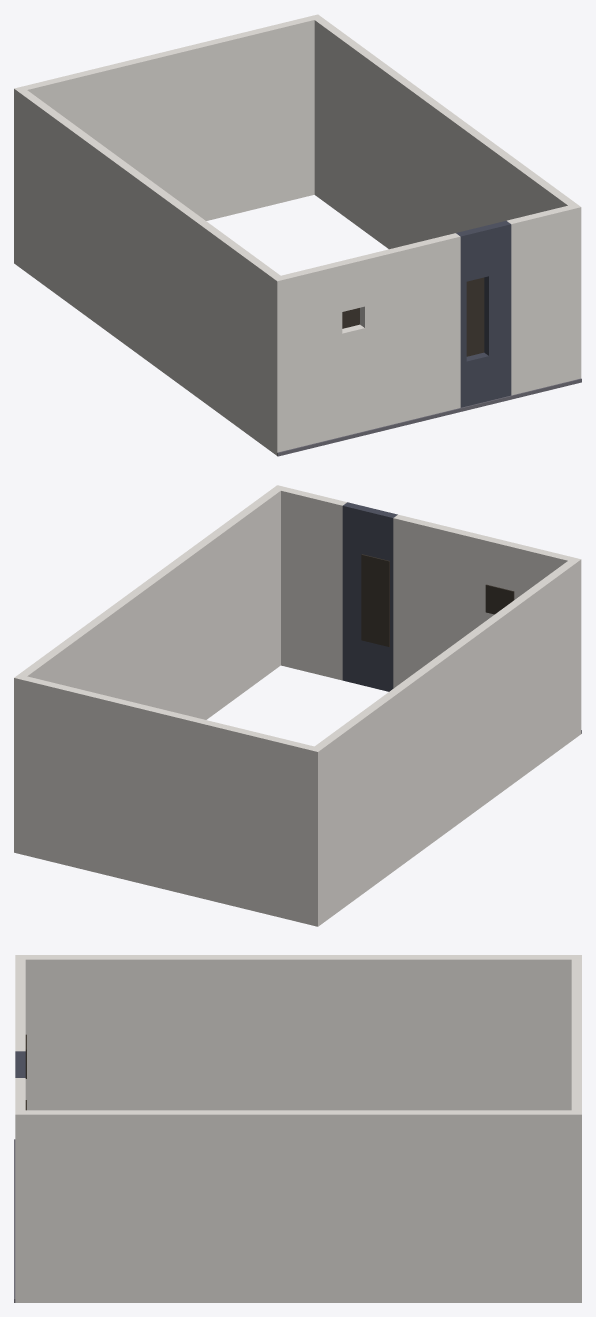
The model's file is SM_Floor_NarrowUpperScatterHigh_White_546_01.gltf.
3 renders of one model, top to bottom at view 1: azimuth 30°, elevation 25°; view 2: azimuth 150°, elevation 25°; view 3: azimuth 270°, elevation 25°, orthographic. The views are drawn at different scales.
Visible parts, largest first — view 1: SM_Floor_NarrowUpperScatterHigh_White_546_01; view 2: SM_Floor_NarrowUpperScatterHigh_White_546_01; view 3: SM_Floor_NarrowUpperScatterHigh_White_546_01.
Boxes of the visible parts, x1=… form: SM_Floor_NarrowUpperScatterHigh_White_546_01: x1=14, y1=14, x2=581, y2=456; SM_Floor_NarrowUpperScatterHigh_White_546_01: x1=14, y1=485, x2=581, y2=926; SM_Floor_NarrowUpperScatterHigh_White_546_01: x1=14, y1=955, x2=581, y2=1302.
Size of the model in its own units: 5.46 by 3 by 8.21.
Materials: 1 (1 with a texture image).
